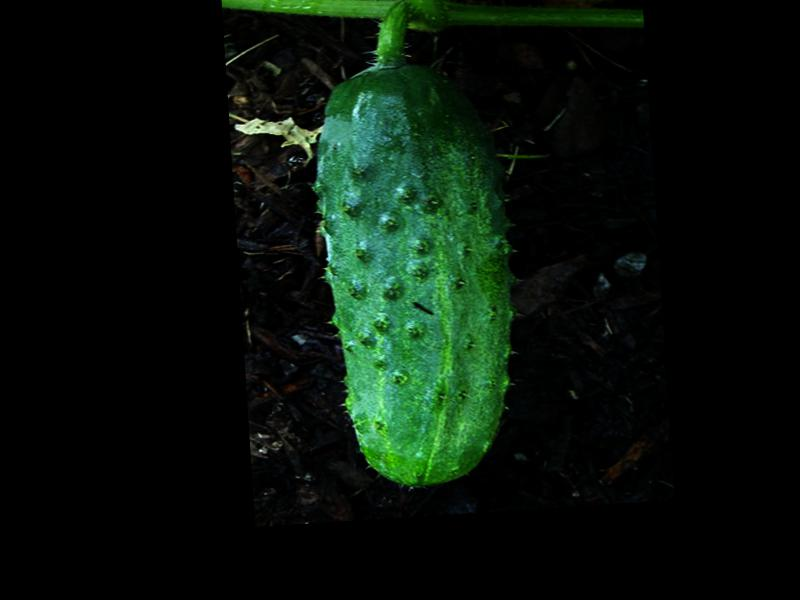Cucumber: (308, 56, 528, 495)
